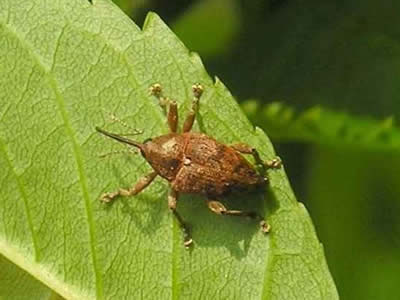dolgonosik: (78, 81, 291, 253)
